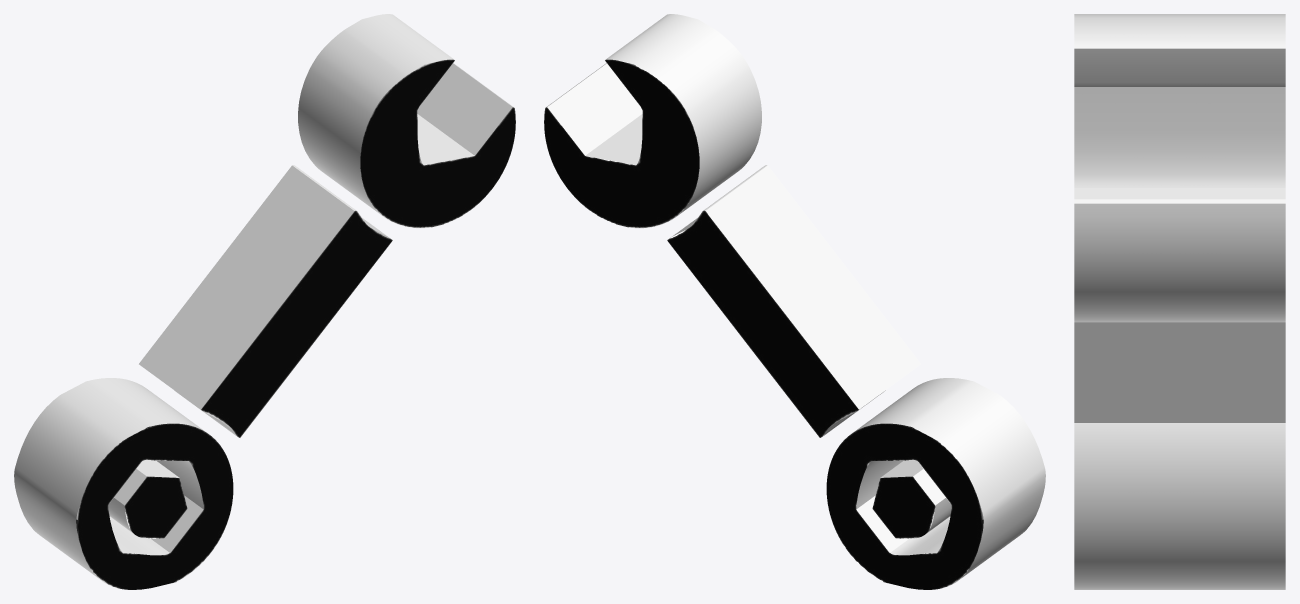
File: chave cópia.obj
3 views of the same model, side by side, from view 1: azimuth 30°, elevation 25°; view 2: azimuth 150°, elevation 25°; view 3: azimuth 270°, elevation 25° (orthographic). The views are drawn at different scales.
Size of the model in its own units: 627 by 623 by 154.
Materials: 3 (3 with a texture image).
